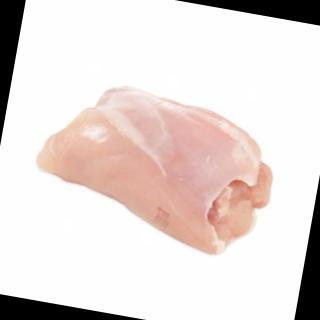Ayam: (27, 75, 287, 265)
